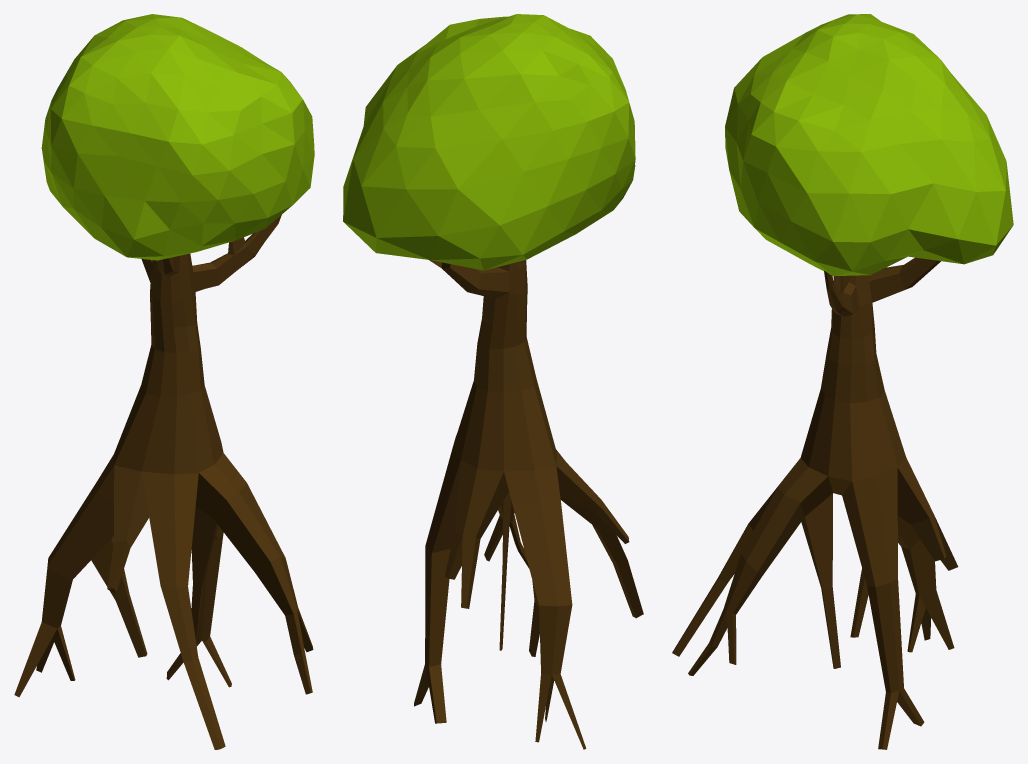
File: TreeLeafsRootsLOD0.fbx
3 renders of one model, left to right at view 1: azimuth 30°, elevation 25°; view 2: azimuth 150°, elevation 25°; view 3: azimuth 270°, elevation 25°, orthographic. The views are drawn at different scales.
Parts seen in each view (by area): view 1: TreeLeafsRootsLOD0; view 2: TreeLeafsRootsLOD0; view 3: TreeLeafsRootsLOD0.
Boxes of the visible parts, bbox=[...] form: TreeLeafsRootsLOD0: bbox=[14, 14, 314, 749]; TreeLeafsRootsLOD0: bbox=[343, 14, 643, 749]; TreeLeafsRootsLOD0: bbox=[672, 14, 1013, 749].
Bounding box in the file's own units: 421 × 1091 × 497.
